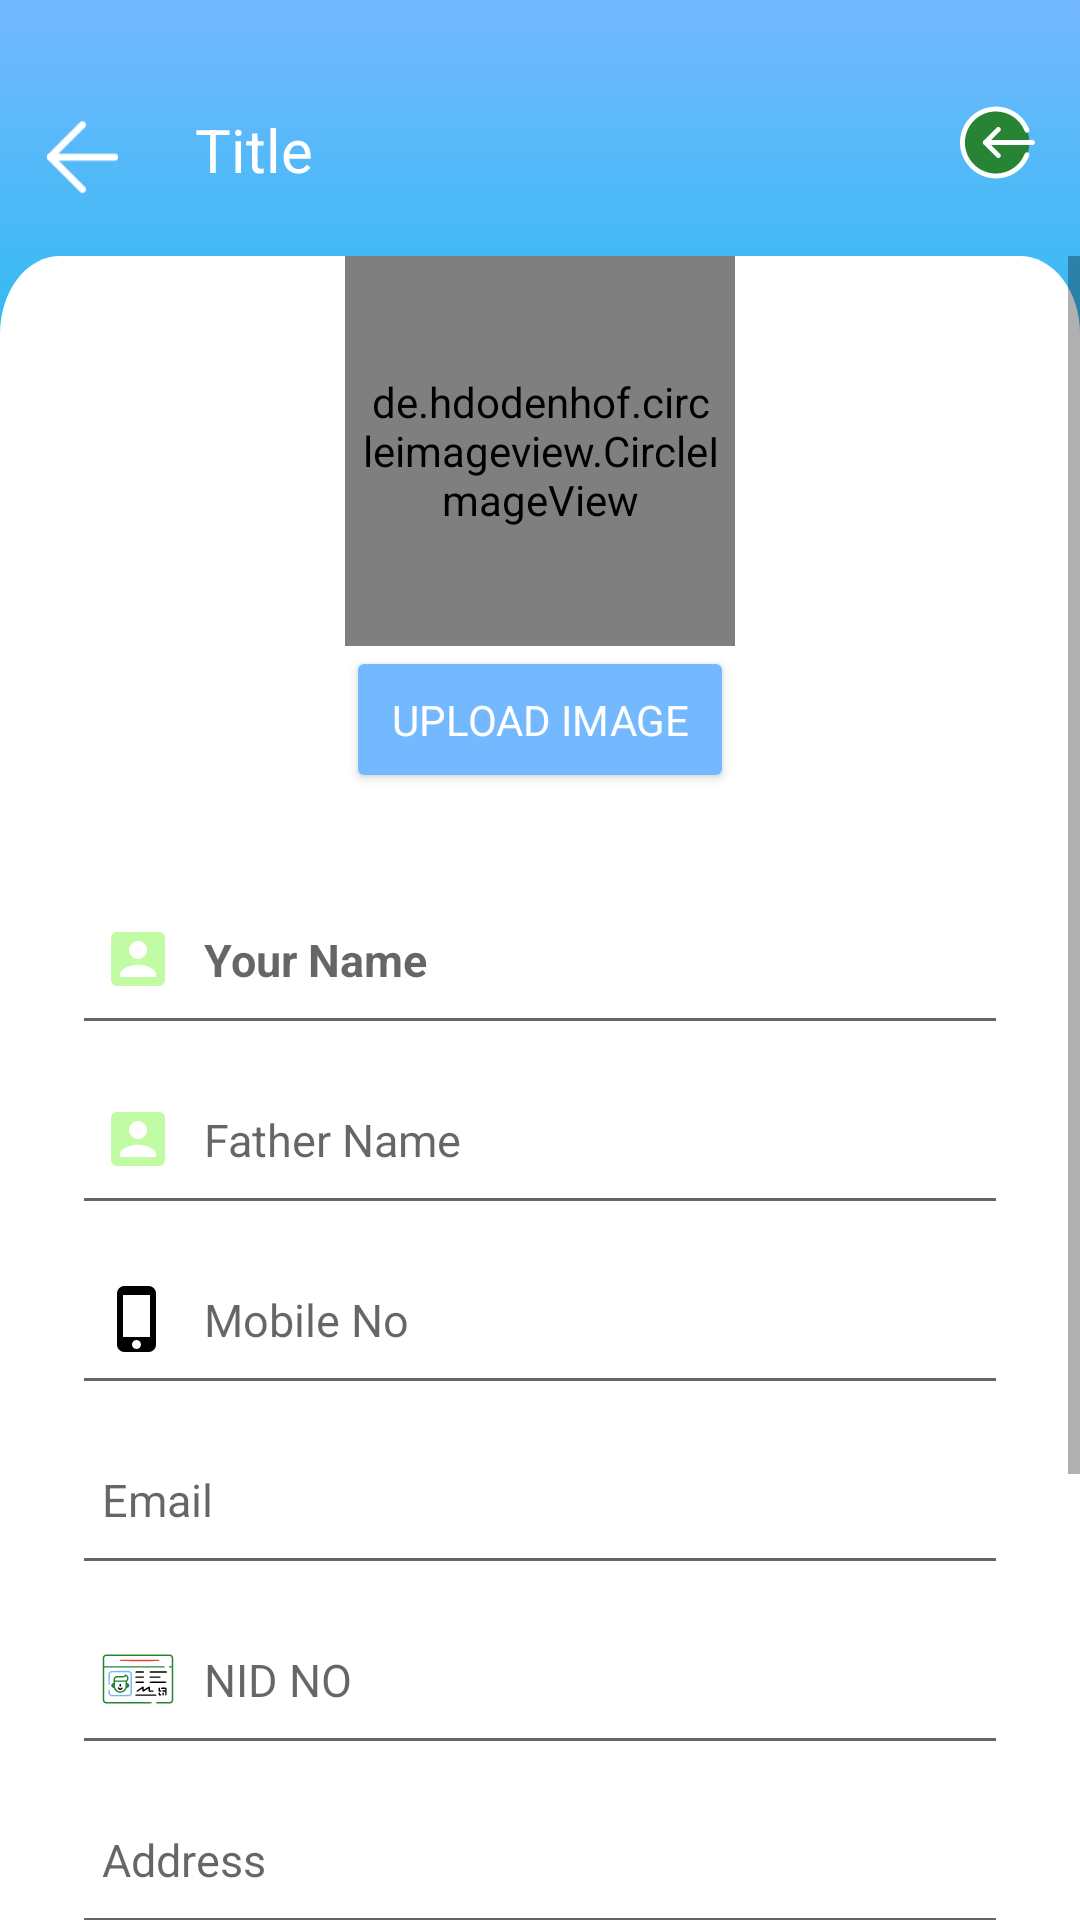

Screen size 1080w x 1920h. Icon name, then its center in pixels as point (x, y):
arrow left: point (82, 157)
